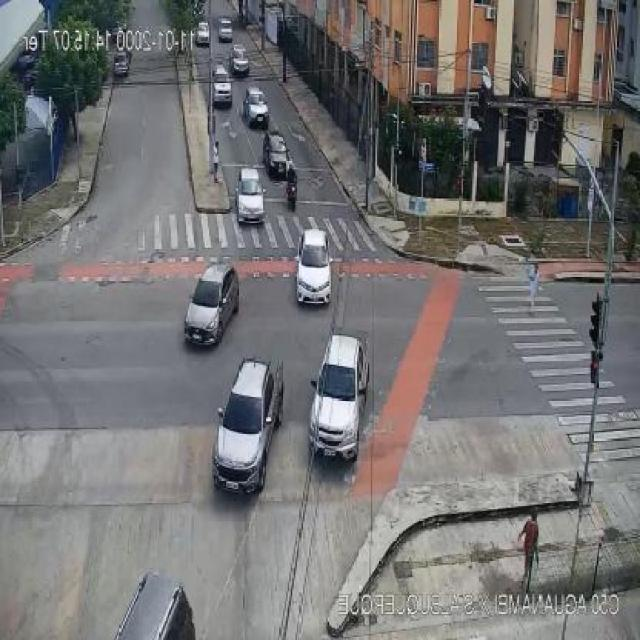Car: (210, 355, 285, 498), (308, 328, 368, 468), (178, 260, 242, 354), (117, 567, 194, 640), (293, 228, 334, 310), (232, 170, 268, 222), (262, 130, 292, 178), (242, 86, 274, 130), (208, 66, 236, 104), (230, 42, 252, 77), (216, 15, 234, 41), (194, 20, 208, 49)
Cycle: (286, 162, 297, 210)
